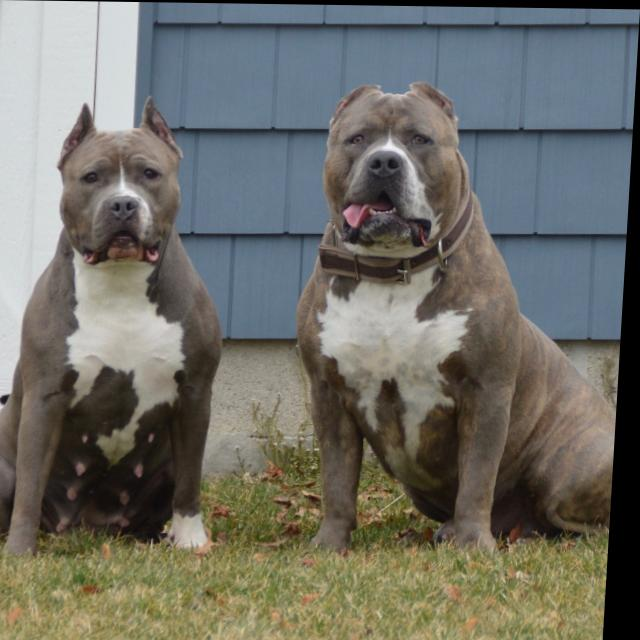am_pit_bull_terrier: (290, 79, 637, 558), (1, 94, 241, 561)
